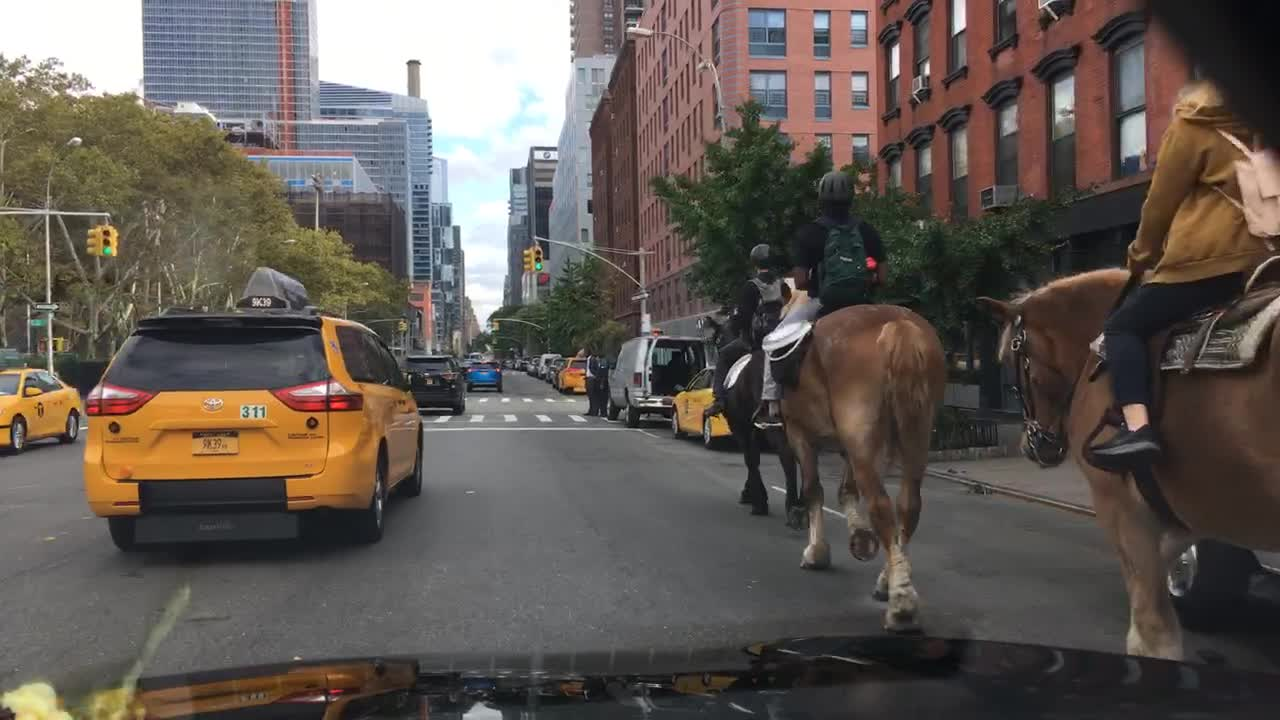bus: (465, 350, 485, 361)
car: (82, 264, 424, 551), (1165, 537, 1276, 635), (606, 333, 707, 428), (0, 367, 81, 453), (670, 364, 733, 448), (396, 355, 466, 414), (465, 359, 505, 391), (563, 355, 586, 394), (558, 355, 577, 393), (540, 350, 560, 381), (547, 355, 564, 390), (526, 353, 540, 378), (460, 361, 472, 384), (517, 355, 531, 373), (500, 358, 515, 370), (512, 358, 523, 371)
person: (581, 344, 610, 417)
rider: (1081, 68, 1278, 465), (751, 171, 889, 427), (701, 241, 792, 419)
traffic light: (102, 223, 119, 257), (84, 226, 101, 257), (520, 246, 534, 273), (532, 244, 544, 273), (396, 316, 410, 333), (488, 316, 500, 333)
traffic sign: (30, 300, 62, 313), (627, 289, 649, 304), (29, 316, 52, 330)
